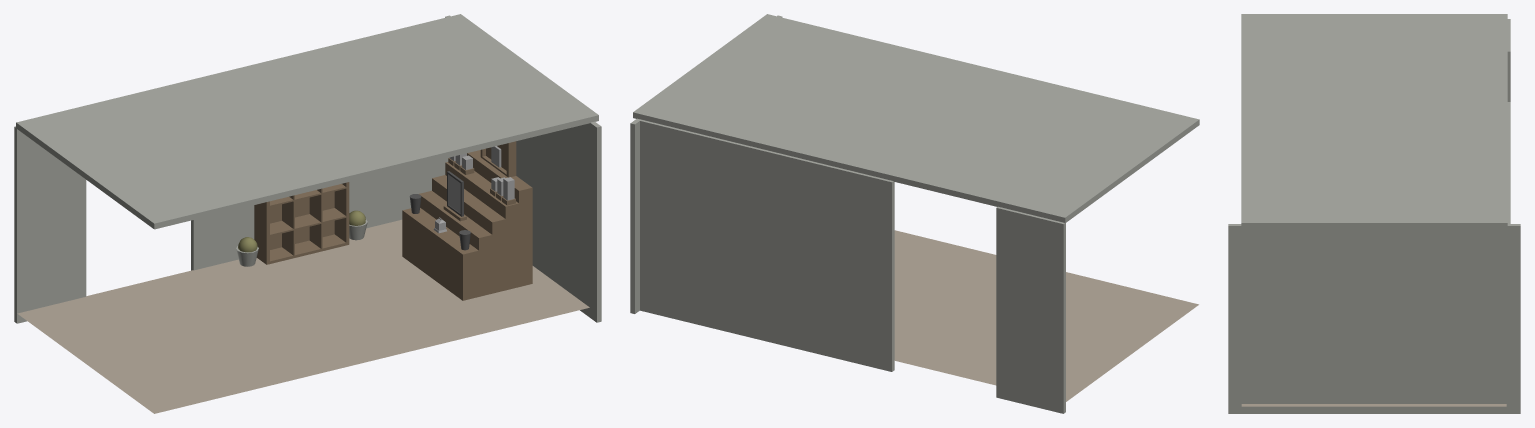
File: home_funeral.fbx
The picture shows the model from 3 angles, left to right: view 1: azimuth 30°, elevation 25°; view 2: azimuth 150°, elevation 25°; view 3: azimuth 270°, elevation 25°; orthographic projection. The views are drawn at different scales.
Parts seen in each view (by area): view 1: pPlane561, kidbedroom1_pPlane155, pPlane580, pPlane562, pPlane564, pPlane563, pPlane571, pPlane579, polySurface678; view 2: pPlane561, pPlane563, kidbedroom1_pPlane155, pPlane564, pPlane562; view 3: pPlane561, pPlane562, pPlane563, kidbedroom1_pPlane155, pPlane564.
Boxes of the visible parts, x1=… form: pPlane561: x1=16, y1=14, x2=598, y2=229; kidbedroom1_pPlane155: x1=17, y1=219, x2=589, y2=413; pPlane580: x1=402, y1=150, x2=532, y2=300; pPlane562: x1=445, y1=15, x2=601, y2=322; pPlane564: x1=14, y1=126, x2=86, y2=323; pPlane563: x1=191, y1=157, x2=449, y2=270; pPlane571: x1=254, y1=182, x2=349, y2=264; pPlane579: x1=480, y1=142, x2=514, y2=177; polySurface678: x1=236, y1=237, x2=258, y2=266; pPlane561: x1=633, y1=14, x2=1199, y2=222; pPlane563: x1=636, y1=119, x2=894, y2=371; kidbedroom1_pPlane155: x1=894, y1=230, x2=1198, y2=401; pPlane564: x1=996, y1=206, x2=1065, y2=413; pPlane562: x1=630, y1=15, x2=782, y2=313; pPlane561: x1=1241, y1=14, x2=1507, y2=228; pPlane562: x1=1228, y1=224, x2=1520, y2=413; pPlane563: x1=1505, y1=102, x2=1510, y2=413; kidbedroom1_pPlane155: x1=1241, y1=404, x2=1506, y2=406; pPlane564: x1=1507, y1=19, x2=1510, y2=101.
Size of the model in its own units: 10.64 by 4.58 by 6.28.
